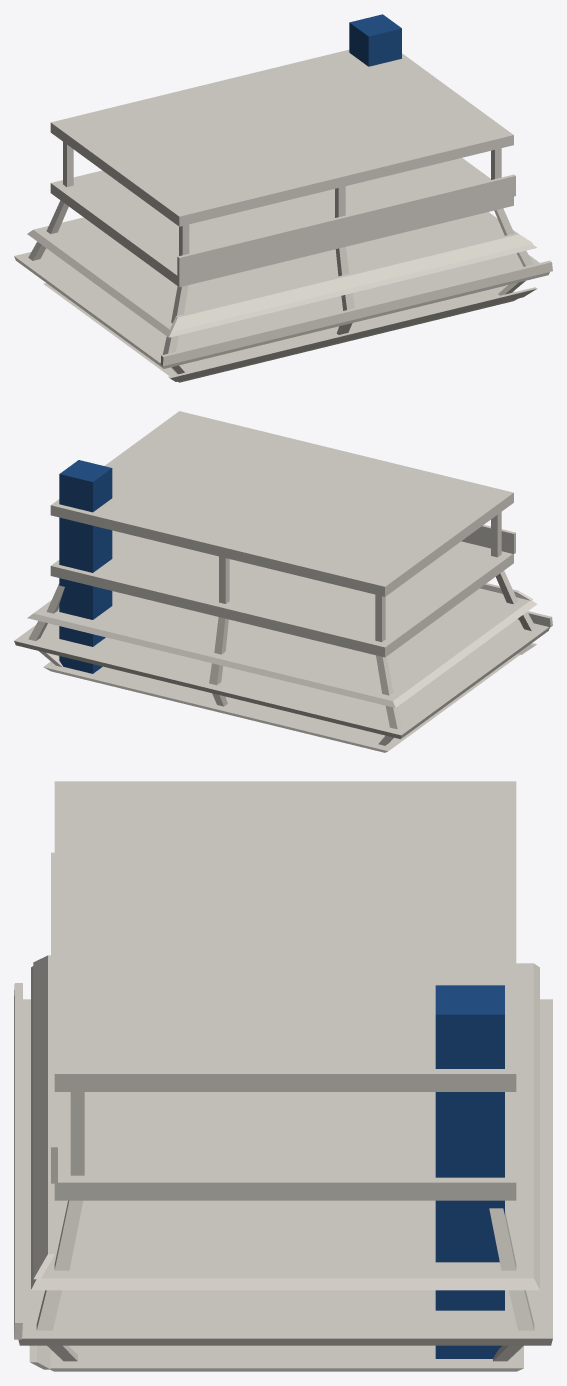
File: parking_garage.glb
The picture shows the model from 3 angles, top to bottom: view 1: azimuth 30°, elevation 25°; view 2: azimuth 150°, elevation 25°; view 3: azimuth 270°, elevation 25°; orthographic projection. The views are drawn at different scales.
Parts seen in each view (by area): view 1: parking_garage_concrete, parking_garage_garda_blue; view 2: parking_garage_concrete, parking_garage_garda_blue; view 3: parking_garage_concrete, parking_garage_garda_blue.
Part boxes in pixels (x1,y1,x2,y2): parking_garage_concrete: (14,49,552,382); parking_garage_garda_blue: (349,14,401,66); parking_garage_concrete: (14,411,552,752); parking_garage_garda_blue: (59,460,112,673); parking_garage_concrete: (14,781,552,1371); parking_garage_garda_blue: (435,985,504,1358).
Bounding box in the file's own units: 36.38 × 17.5 × 24.27.
